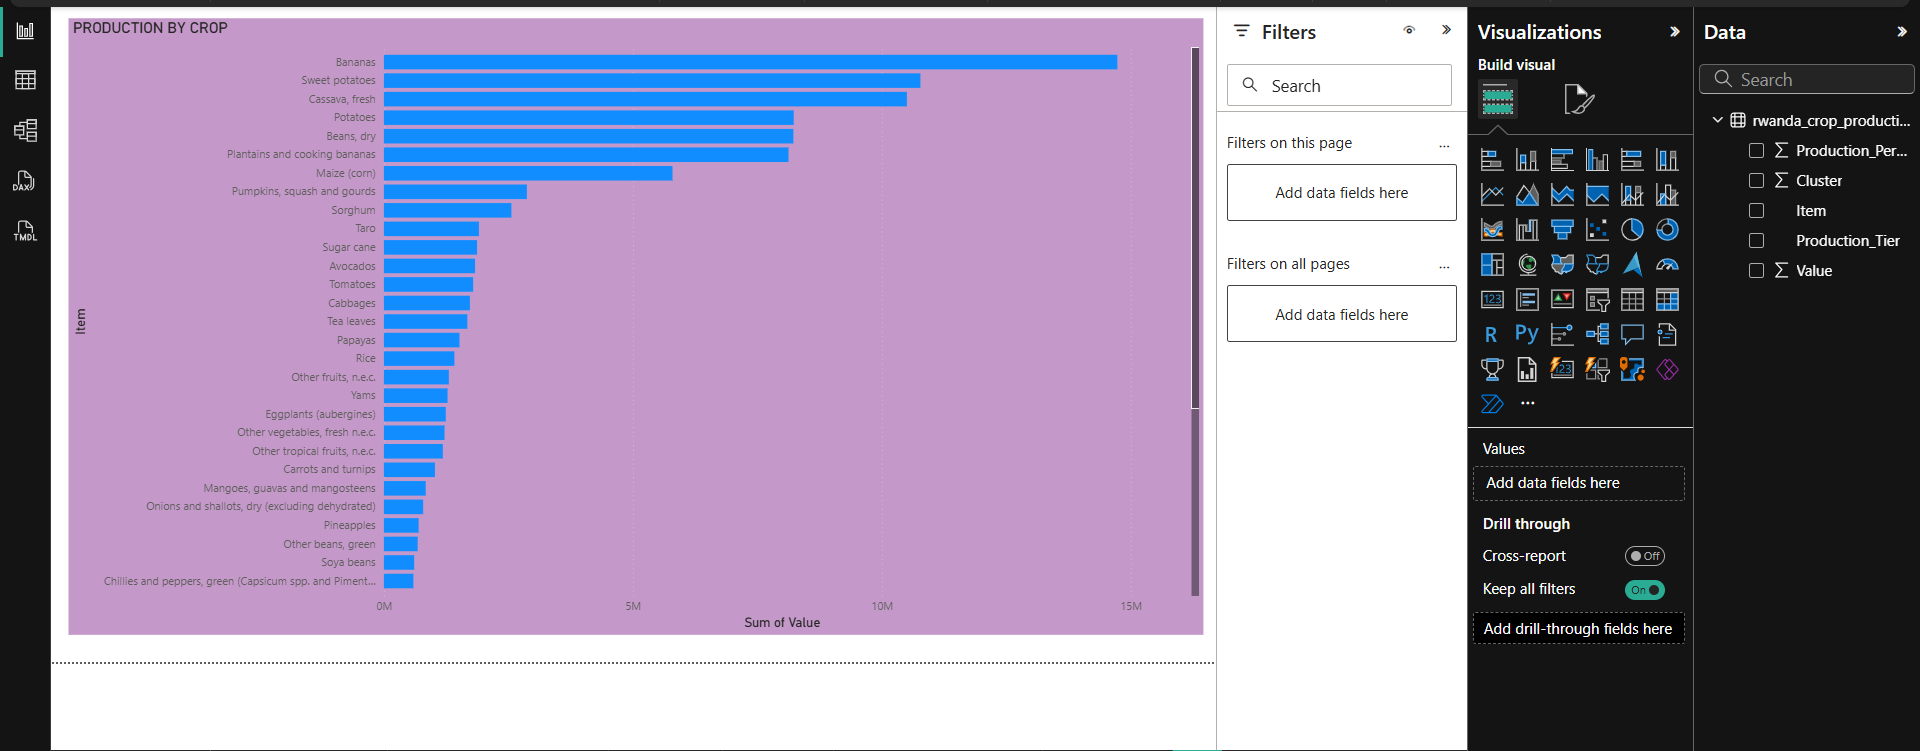

Layout of this report page (visuals, bound fields, positions):
{"tool":"powerbi","page":{"name":"Bar Chart","canvas":[1280,720],"ordinal":2},"visuals":[{"type":"clusteredBarChart","title":"PRODUCTION BY CROP","fields":{"Y":["Sum(rwanda_crop_production_trends.Value)"],"Category":["rwanda_crop_production_trends.Item"]},"box":[19.2,12.3,1247.3,677.9],"z":0}]}

Visuals, with their boxes on the page's 1280x720 design canvas (x1, y1, x2, y2). These are canvas units, not pixel positions in the 1920x751 screenshot, which may show the page scaled, cropped or inside an application window:
"PRODUCTION BY CROP" clusteredBarChart: crop(19, 12, 1266, 690)
